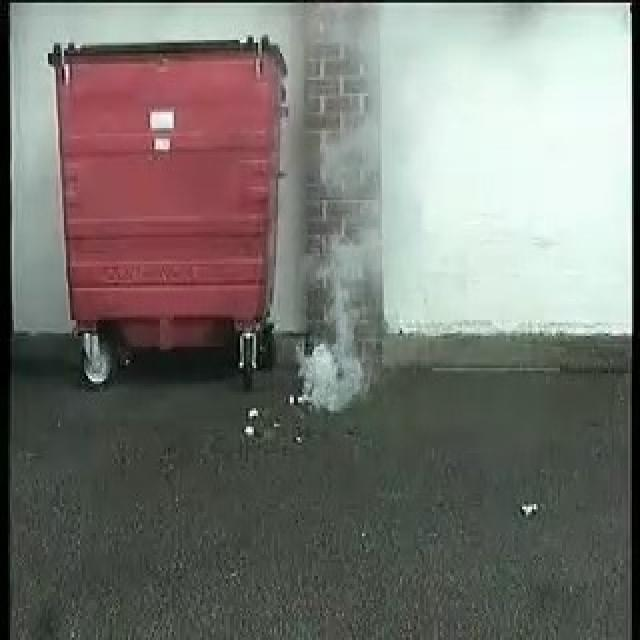smoke: (287, 92, 385, 409)
